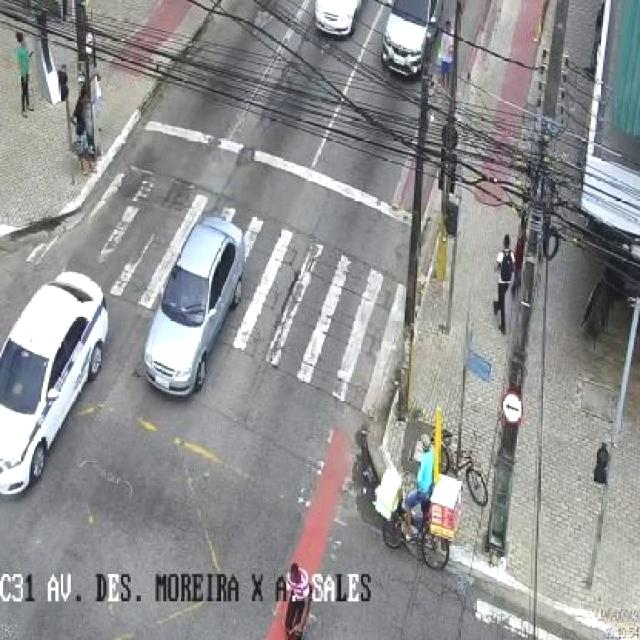Car: (0, 270, 110, 499), (144, 216, 245, 398), (380, 0, 446, 81), (313, 0, 365, 42)
Cycle: (381, 501, 450, 572), (438, 430, 489, 507)
